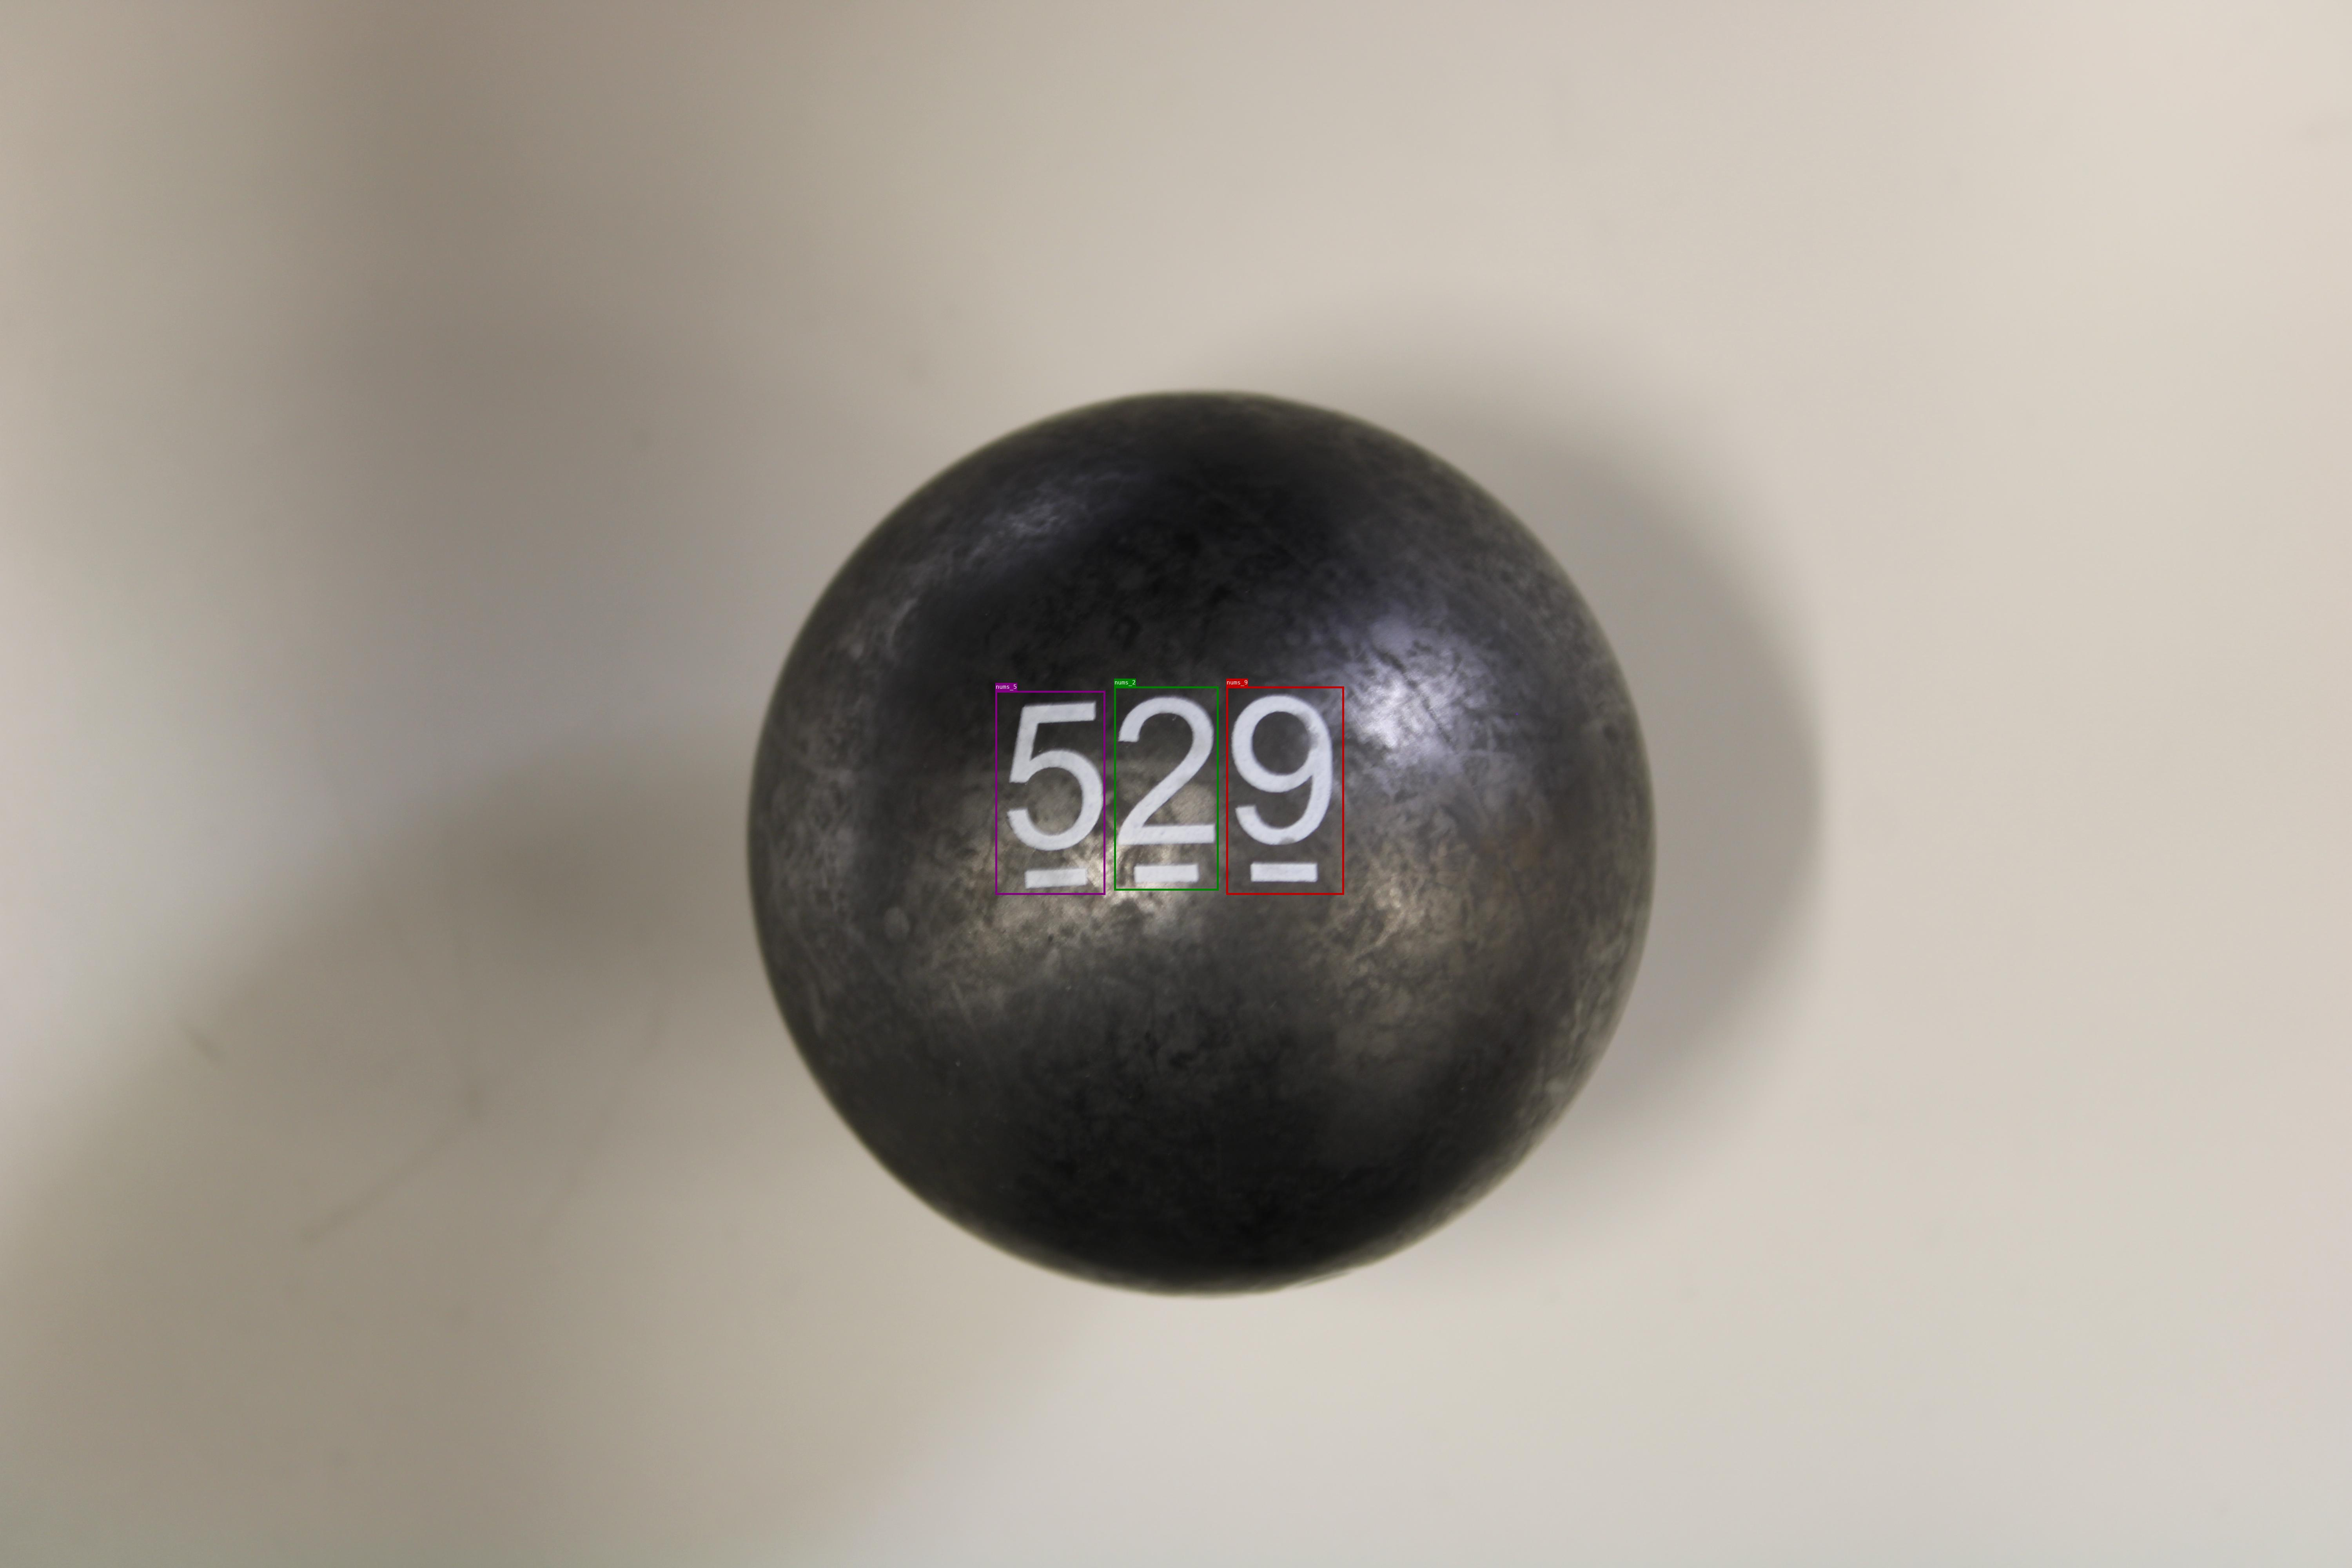nums_2: (1115, 686, 1218, 891)
nums_5: (996, 691, 1104, 894)
nums_9: (1227, 686, 1344, 894)
